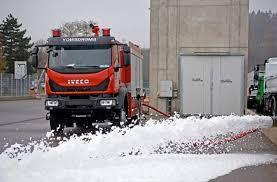Fire-engine: (37, 22, 146, 127)
